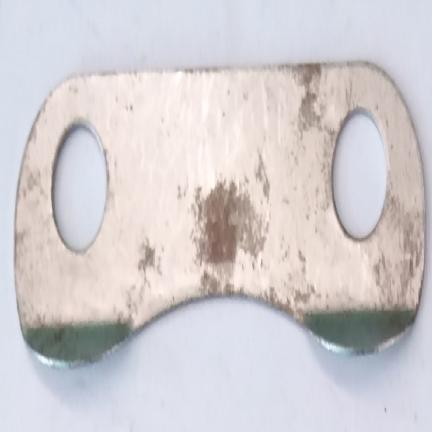karat: (190, 181, 266, 270)
